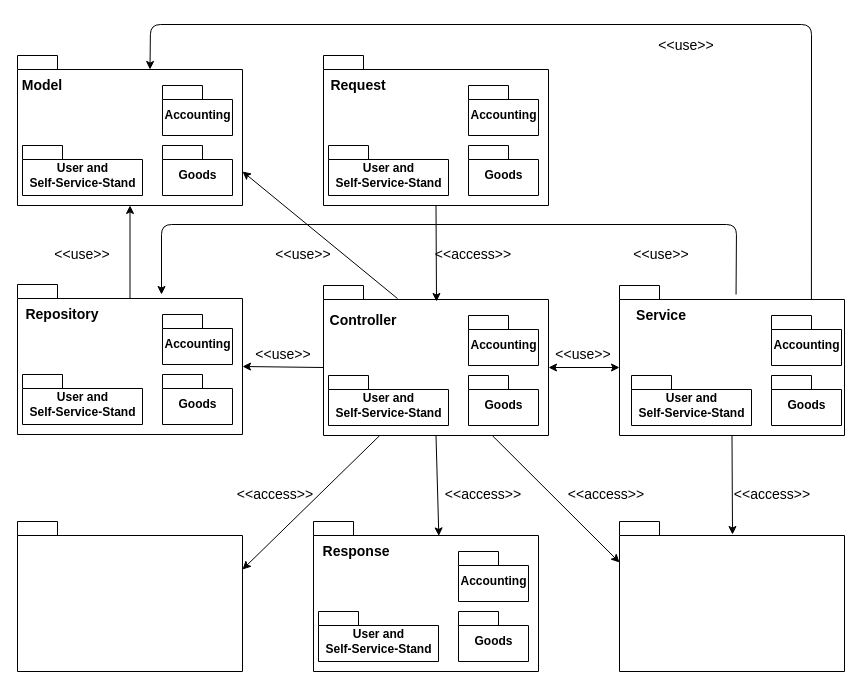
The diagram is 862 pixels wide and 689 high, and some of its shapes have lost their labels. The box of each missing label's shape, as (x1, y1, x2, y2) in pixels:
Exception: (618, 520, 844, 672)
Security: (16, 520, 242, 672)
